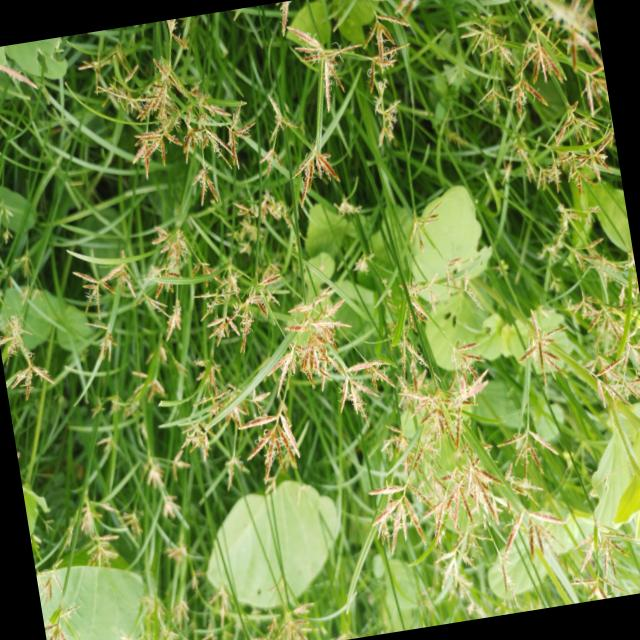cyperus: (334, 268, 516, 568), (222, 275, 366, 489), (104, 45, 264, 225), (494, 0, 622, 197), (265, 35, 374, 212), (25, 490, 141, 640), (160, 354, 256, 498), (566, 226, 640, 409), (80, 246, 166, 372), (452, 8, 528, 126), (192, 252, 278, 351), (355, 18, 418, 144), (144, 224, 208, 342), (568, 516, 640, 603), (222, 182, 298, 259), (0, 311, 57, 399), (252, 98, 303, 184), (506, 496, 574, 560), (236, 592, 324, 640), (510, 318, 567, 392), (143, 446, 193, 524), (0, 42, 44, 122), (430, 542, 480, 608), (91, 392, 139, 457), (506, 416, 556, 477), (400, 200, 450, 256), (112, 486, 152, 542), (131, 362, 169, 412), (158, 526, 199, 570), (166, 598, 191, 634)
